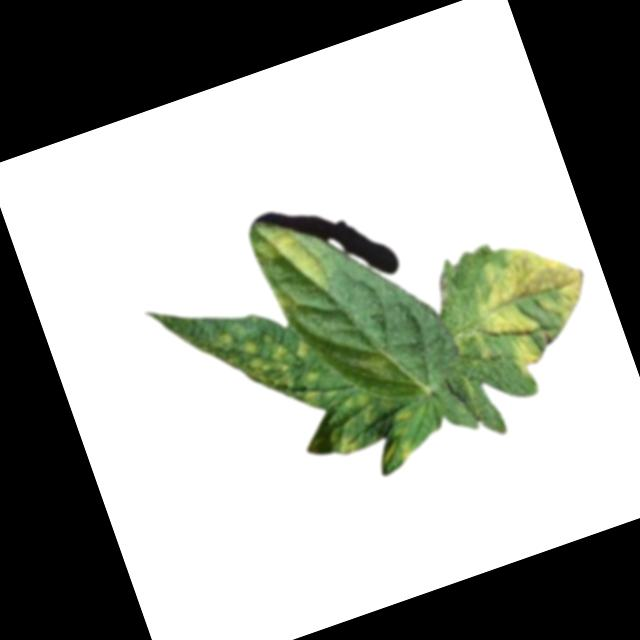Leaf_Mold: (448, 228, 610, 390), (194, 304, 334, 439), (250, 215, 336, 316), (365, 408, 431, 477), (321, 417, 364, 460)
